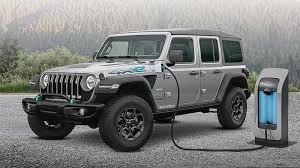mobil: (29, 26, 252, 151)
